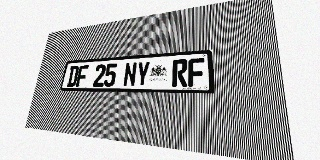2: (93, 64, 106, 87)
5: (103, 63, 117, 87)
D: (66, 66, 79, 87)
F: (188, 58, 205, 87), (76, 65, 89, 87)
N: (123, 62, 137, 87)
R: (172, 59, 188, 87)
Y: (135, 61, 150, 87)
